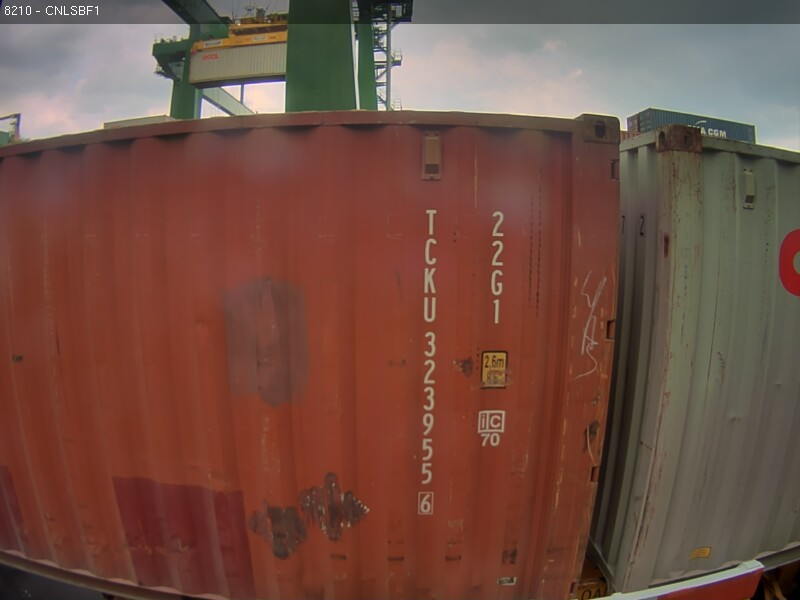container_no_door: (288, 96, 631, 599)
